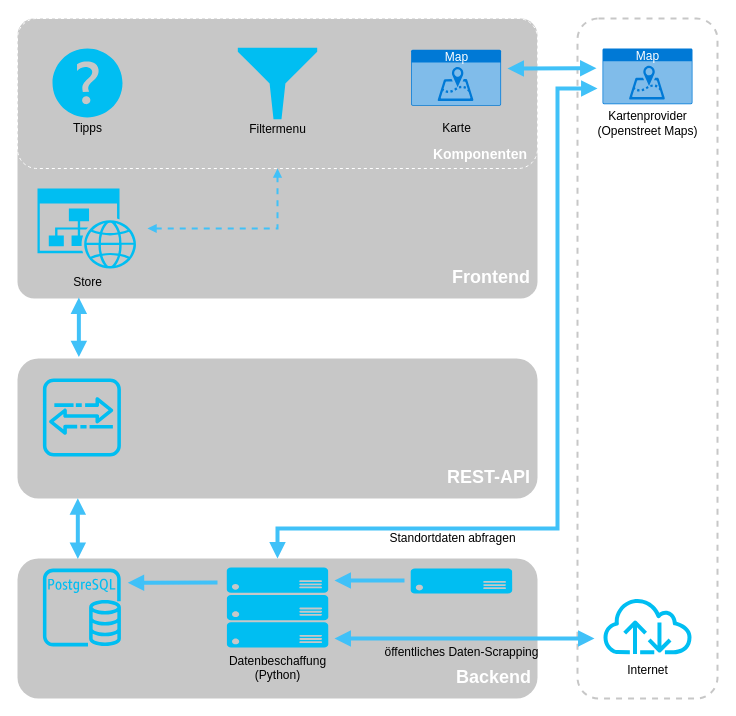
This 736x716 diagram has some shape labels left out. Here are the shapes that lost their labels. From the top down, the centre of each, then its label:
[81,417]: REST-API (Spring Boot)
[461,580]: Job Scheduler (Cron)
[81,607]: Datenbank (PostgreSQL)
